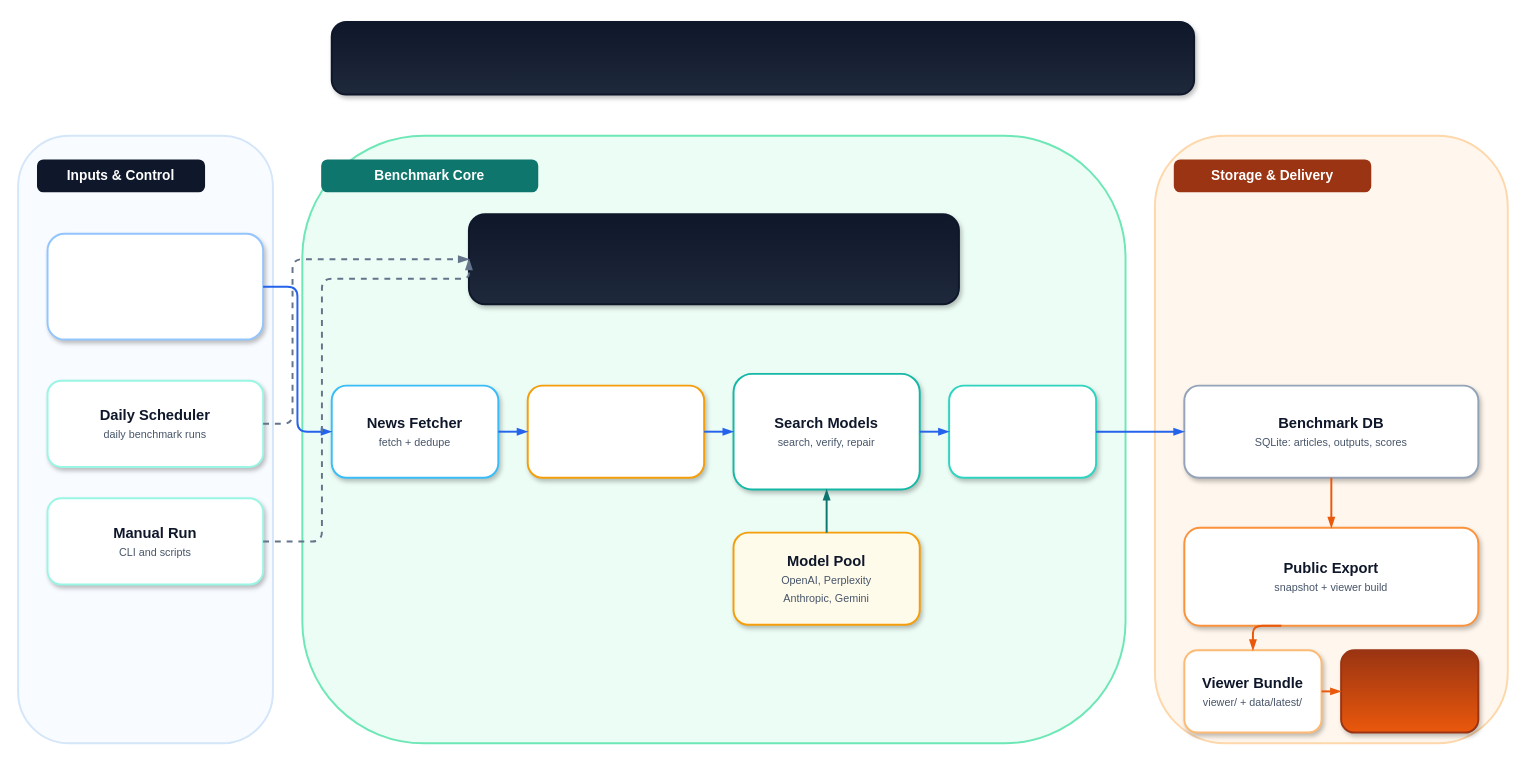
This 1525x760 diagram has some shape labels left out. The shapes that lost their labels are listed below. From the top down, each one's centre as x and y in pixels, then its label:
At (x=763, y=59): "Fake News Benchmark Fetch, perturb, evaluate, publish".
At (x=714, y=260): "Benchmark Orchestrator runs fetch -> perturb -> evaluate".
At (x=156, y=287): "News Sources Reuters, AP, BBC, NPR, ...".
At (x=616, y=432): "Variant Generator inject one false claim".
At (x=1023, y=432): "Scoring repair score + diagnostics".
At (x=1410, y=692): "GitHub Pages live demo".
